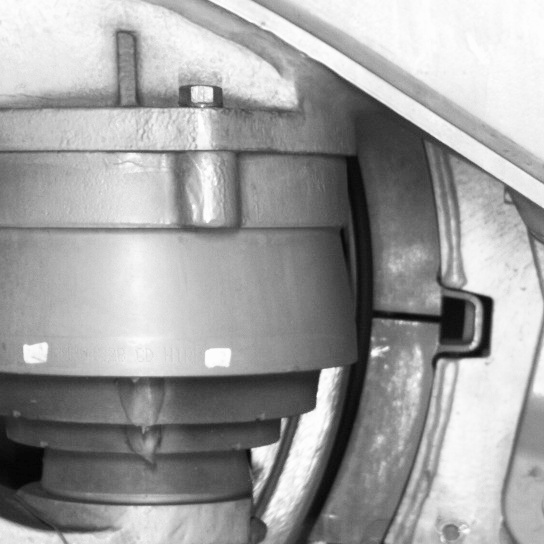KnifeSwitch: (283, 151, 473, 543)
